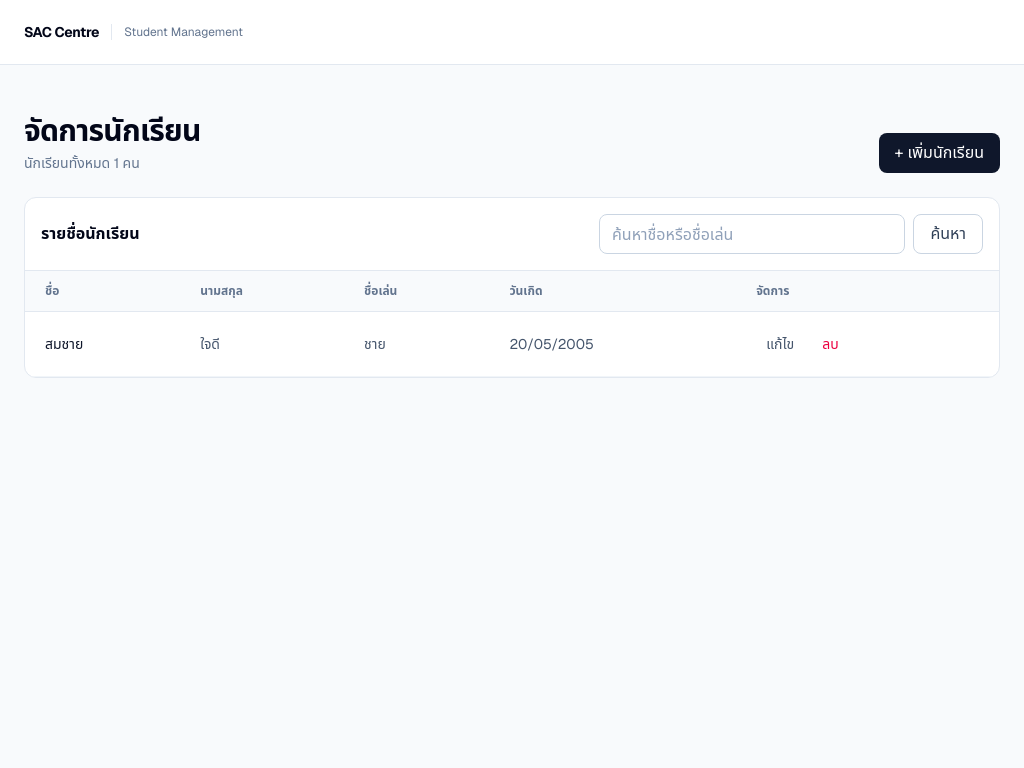
StudentsScreen › edits the selected student and reloads the list
The width and height of the screenshot is (1024, 768).
Click the button with aria-label "แก้ไข สมชาย ใจดี".
click(780, 344)  # box [756, 328, 804, 360]
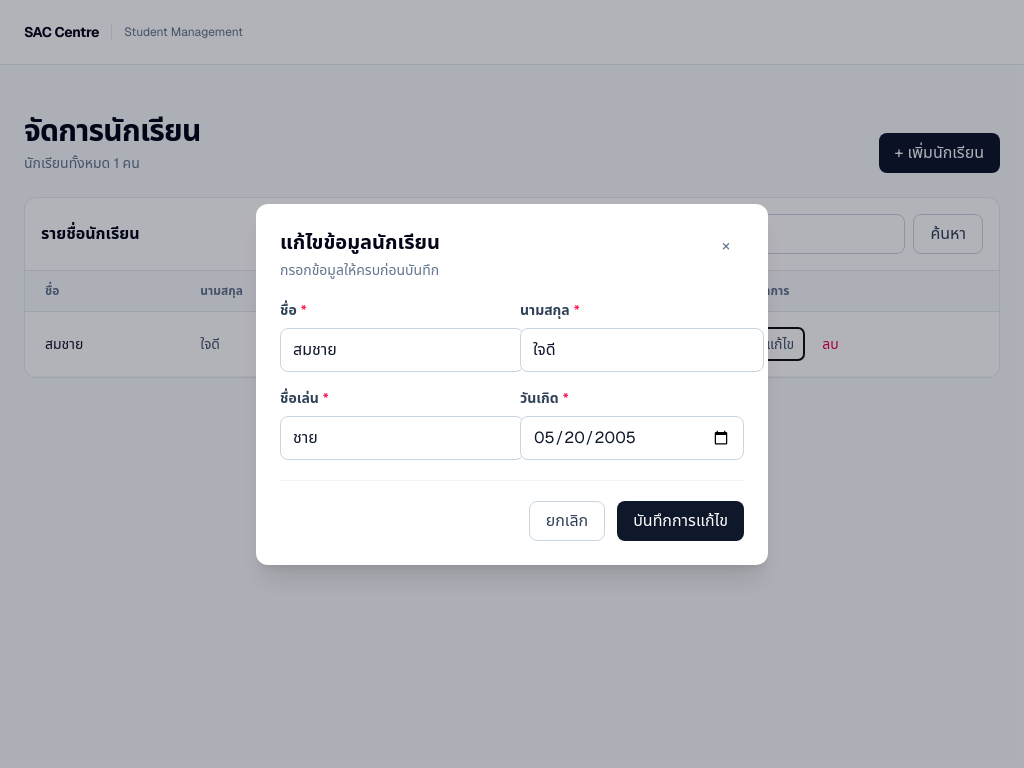
Replace the text in the field labelled "ชื่อเล่น" with "ใหม่" at (402, 438), box [280, 416, 524, 460]
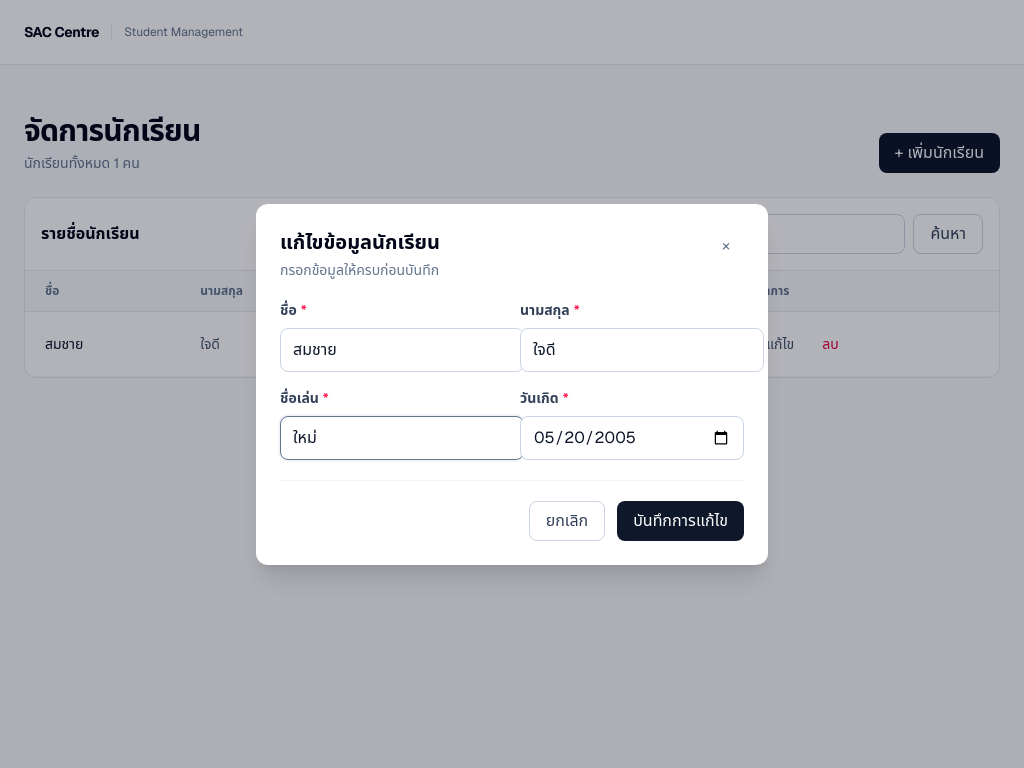
Click the button "บันทึกการแก้ไข".
click(681, 520)  # box [617, 500, 744, 540]
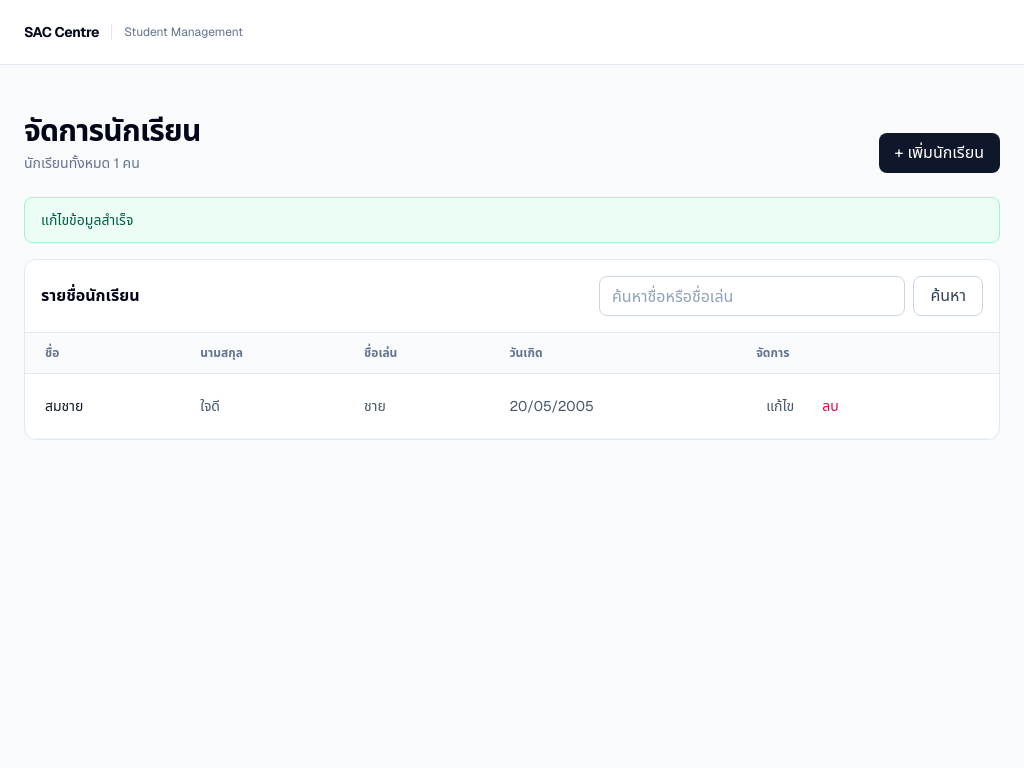
Expected: the message reads "แก้ไขข้อมูลสำเร็จ", [41, 211, 133, 229]
